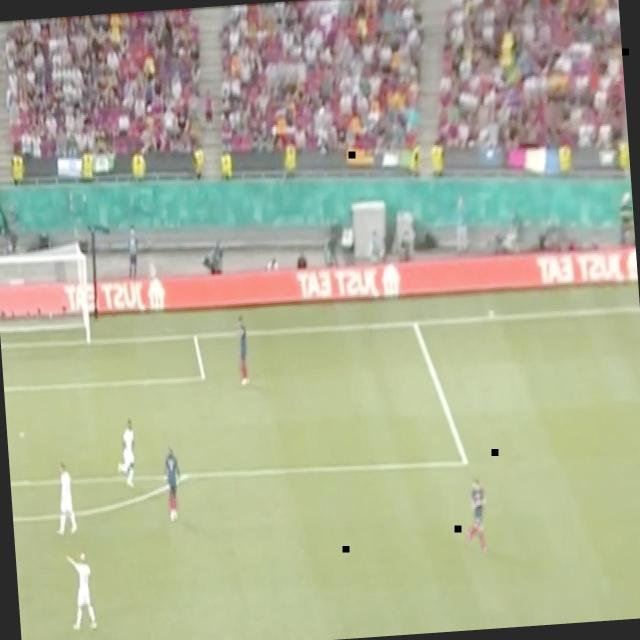player-white: (61, 550, 101, 636), (49, 456, 81, 542), (462, 471, 492, 560), (112, 415, 142, 499), (158, 442, 186, 525), (232, 308, 254, 392)
